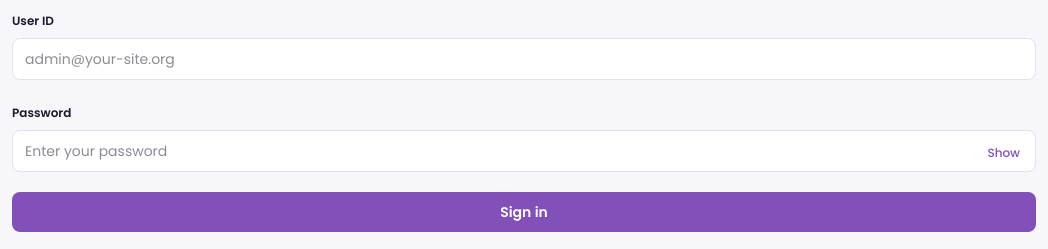
Test: LoginForm › Show / Hide flips the password between hidden and visible
Later steps or results of the test are not shown.
Click the button with aria-label "Show password": (1004, 153) [979,141,1028,165]
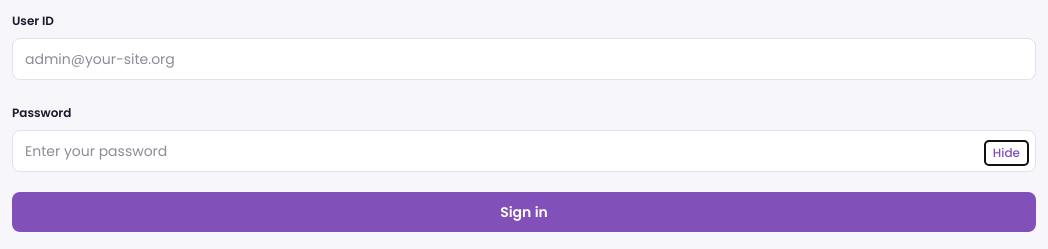
Now the button with aria-label "Hide password" is pressed, box [985,141,1028,165]
